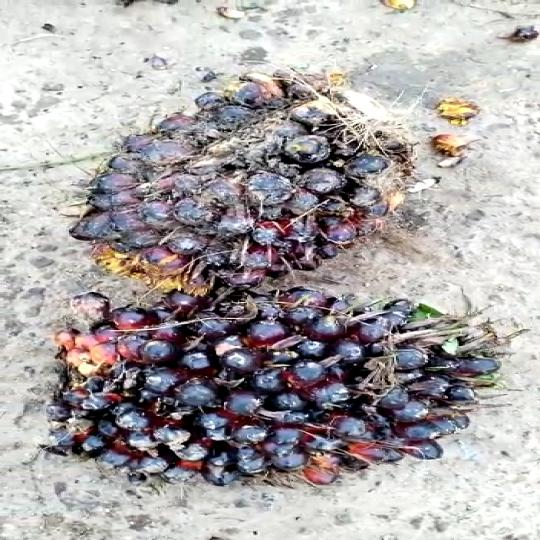kurang masak: (9, 284, 498, 508), (35, 68, 401, 293)
